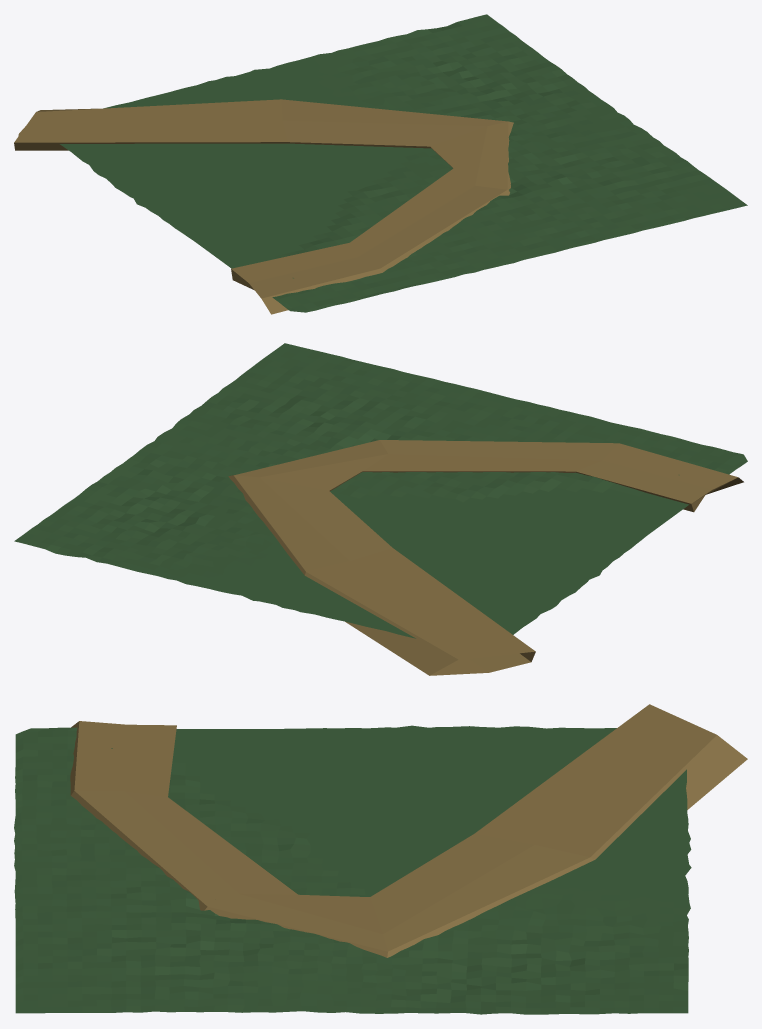
File: athili_copse_section21.glb
3 views of the same model, one above another, from view 1: azimuth 30°, elevation 25°; view 2: azimuth 150°, elevation 25°; view 3: azimuth 270°, elevation 25° (orthographic). The views are drawn at different scales.
Parts seen in each view (by area): view 1: Grass, Road; view 2: Grass, Road; view 3: Grass, Road.
Part boxes in pixels (x1,y1,x2,y2): Grass: (60,14,747,312); Road: (14,99,513,314); Grass: (14,343,747,638); Road: (228,440,743,675); Grass: (14,725,691,1014); Road: (70,704,747,957).
Bounding box in the file's own units: 63.85 × 1.8 × 64.55.
